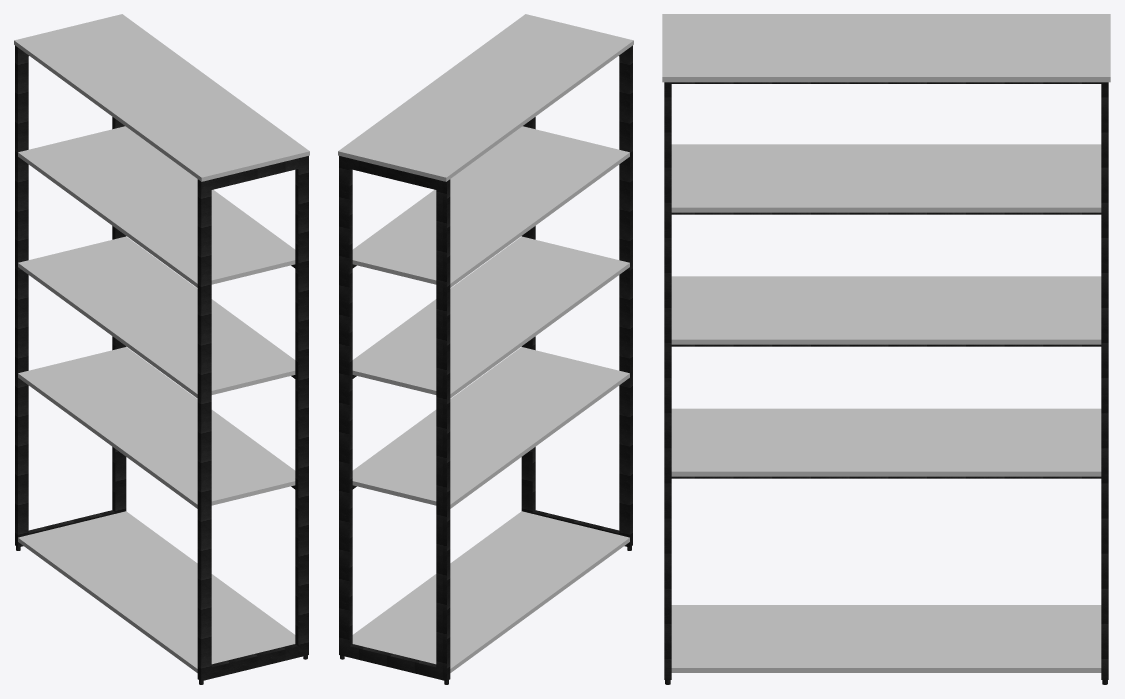
File: shelf.dae
3 renders of one model, left to right at view 1: azimuth 30°, elevation 25°; view 2: azimuth 150°, elevation 25°; view 3: azimuth 270°, elevation 25°, orthographic. The views are drawn at different scales.
Parts seen in each view (by area): view 1: Wood, Black; view 2: Wood, Black; view 3: Wood, Black.
Part boxes in pixels (bbox=[...]): Wood: bbox=[14, 14, 309, 672]; Black: bbox=[15, 45, 308, 684]; Wood: bbox=[338, 14, 633, 672]; Black: bbox=[339, 45, 632, 684]; Wood: bbox=[662, 14, 1110, 672]; Black: bbox=[664, 82, 1108, 684].
Size of the model in its own units: 0.4 by 1.2 by 1.79.
